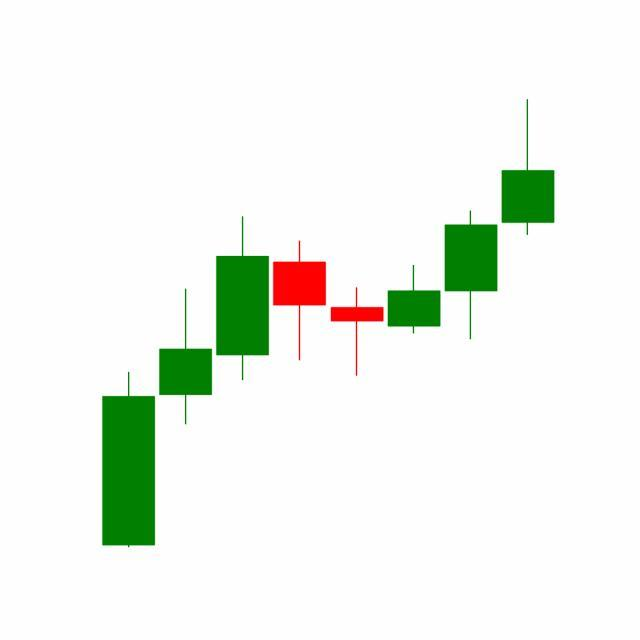Hikkake Pattern: (214, 208, 501, 383)
